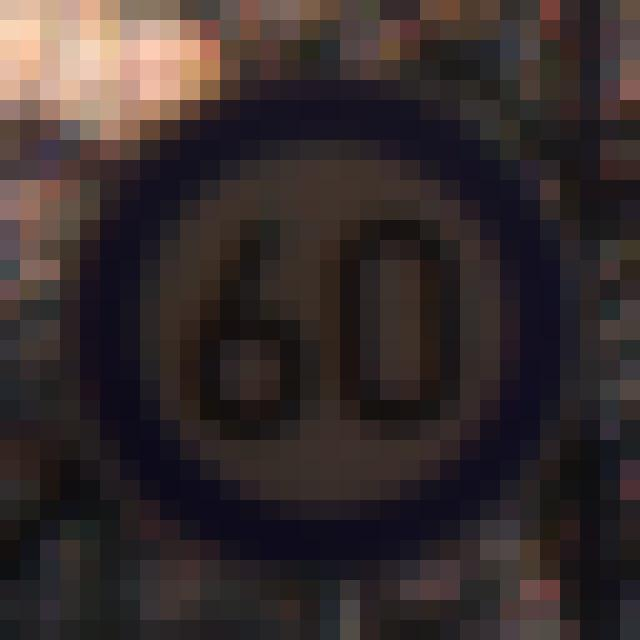SPEED-LIMIT-60: (50, 60, 575, 579)
